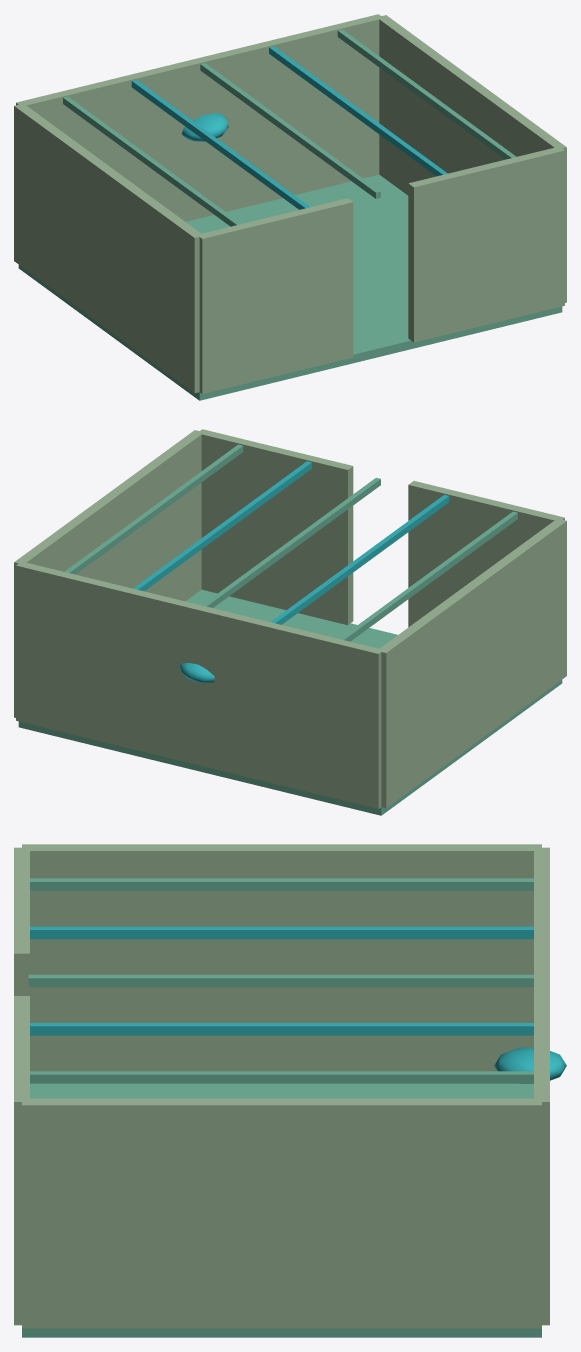
Rendered from island_prism.glb.
The picture shows the model from 3 angles, top to bottom: view 1: azimuth 30°, elevation 25°; view 2: azimuth 150°, elevation 25°; view 3: azimuth 270°, elevation 25°; orthographic projection. The views are drawn at different scales.
Visible parts, largest first — view 1: wall_north, wall_west, wall_south_right, wall_south_left, wall_east, floor, ceiling_beam_0, ceiling_beam_-1, ceiling_beam_2, ceiling_beam_-2, ceiling_beam_1, purpose_prism_sanctuary; view 2: wall_north, wall_west, wall_south_right, wall_east, wall_south_left, floor, ceiling_beam_-1, ceiling_beam_0, ceiling_beam_2, ceiling_beam_-2, ceiling_beam_1, purpose_prism_sanctuary; view 3: wall_east, wall_west, floor, ceiling_beam_0, ceiling_beam_-1, ceiling_beam_-2, ceiling_beam_1, ceiling_beam_2, wall_north, wall_south_right, wall_south_left, purpose_prism_sanctuary.
Boxes of the visible parts, x1,y1,x2,y2 form: wall_north: (16,14,383,221); wall_west: (14,103,203,393); wall_south_right: (408,146,564,342); wall_south_left: (198,198,353,393); wall_east: (377,15,566,302); floor: (18,174,562,400); ceiling_beam_0: (200,63,380,198); ceiling_beam_-1: (131,80,310,209); ceiling_beam_2: (337,29,516,159); ceiling_beam_-2: (63,96,241,226); ceiling_beam_1: (269,46,447,176); purpose_prism_sanctuary: (182,113,228,141); wall_north: (16,561,383,808); wall_west: (378,518,566,808); wall_south_right: (198,429,353,625); wall_east: (14,430,203,717); wall_south_left: (408,481,564,627); floor: (18,589,562,815); ceiling_beam_-1: (270,495,449,624); ceiling_beam_0: (202,477,380,607); ceiling_beam_2: (64,444,243,574); ceiling_beam_-2: (339,511,517,641); ceiling_beam_1: (133,461,311,591); purpose_prism_sanctuary: (180,663,214,682); wall_east: (22,1098,541,1328); wall_west: (22,844,541,1071); floor: (22,1083,541,1337); ceiling_beam_0: (28,974,533,987); ceiling_beam_-1: (30,926,533,939); ceiling_beam_-2: (30,878,533,890); ceiling_beam_1: (30,1023,533,1035); ceiling_beam_2: (30,1071,533,1083); wall_north: (534,847,549,1325); wall_south_right: (14,996,29,1325); wall_south_left: (14,847,29,995); purpose_prism_sanctuary: (494,1047,566,1083).
Size of what is drawn, in the model's own units: 13.55 by 5.7 by 12.13.
